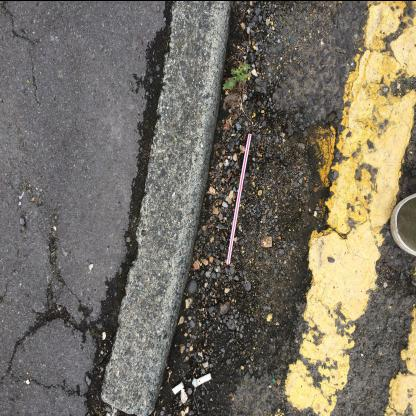plastik: (226, 132, 252, 264)
